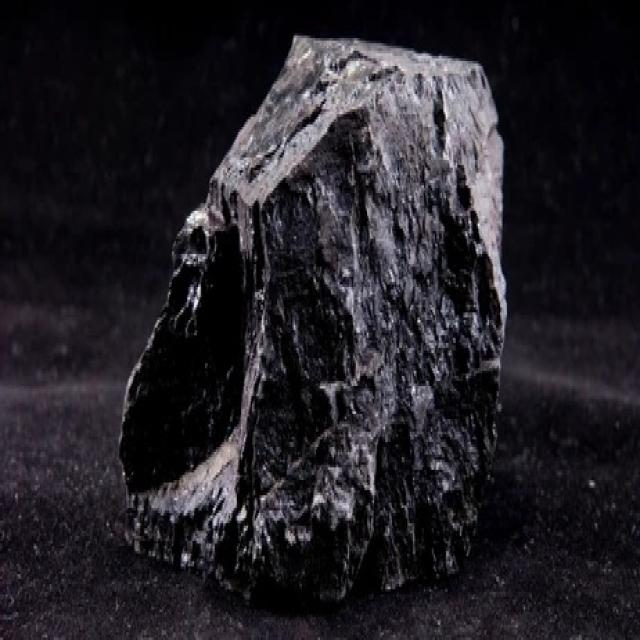Sedimentary: (119, 21, 511, 600)
